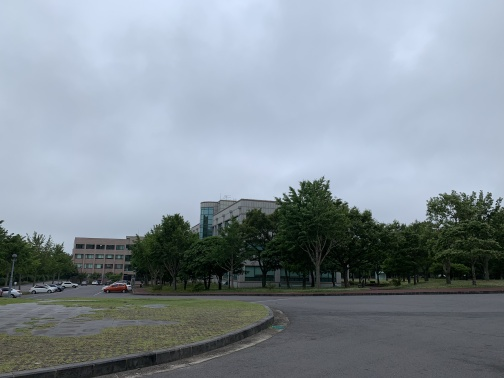Second Library: (192, 198, 276, 237), (237, 258, 340, 289), (189, 199, 229, 239)
